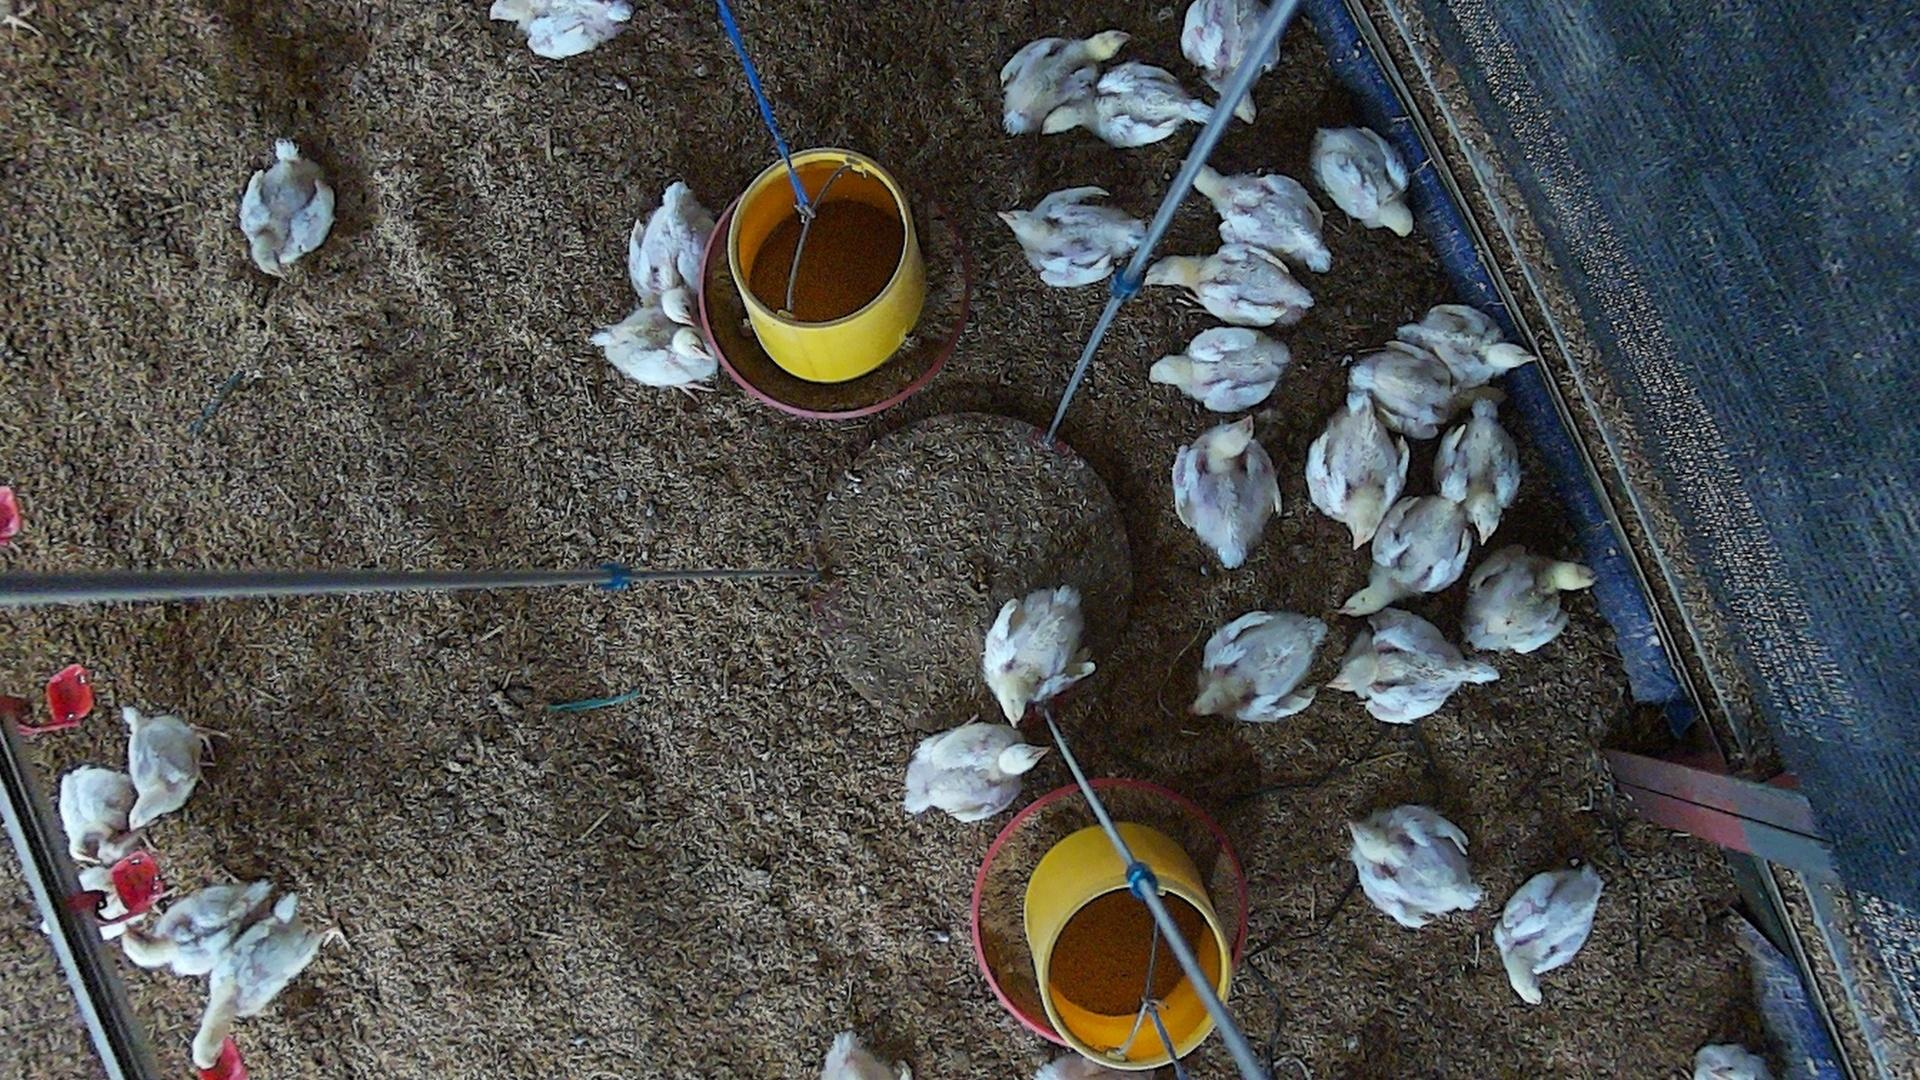ayam_broiler: (193, 893, 349, 1069), (1328, 611, 1497, 723), (1340, 487, 1472, 616), (1168, 167, 1332, 272), (1350, 804, 1484, 930), (1305, 389, 1410, 546), (994, 185, 1151, 287), (1171, 419, 1279, 568), (1346, 349, 1509, 440), (1192, 611, 1327, 720), (1137, 240, 1313, 323), (982, 585, 1089, 723), (121, 880, 274, 975), (1495, 866, 1601, 1001), (1466, 547, 1598, 654), (905, 723, 1044, 822), (1183, 0, 1298, 120), (1040, 61, 1207, 142), (1000, 28, 1122, 135), (240, 137, 334, 276), (1149, 326, 1292, 410), (628, 179, 712, 323), (1439, 398, 1520, 539), (1391, 301, 1530, 384), (591, 305, 720, 386), (1313, 127, 1412, 233), (125, 707, 204, 829), (495, 0, 630, 57), (59, 767, 133, 864)
